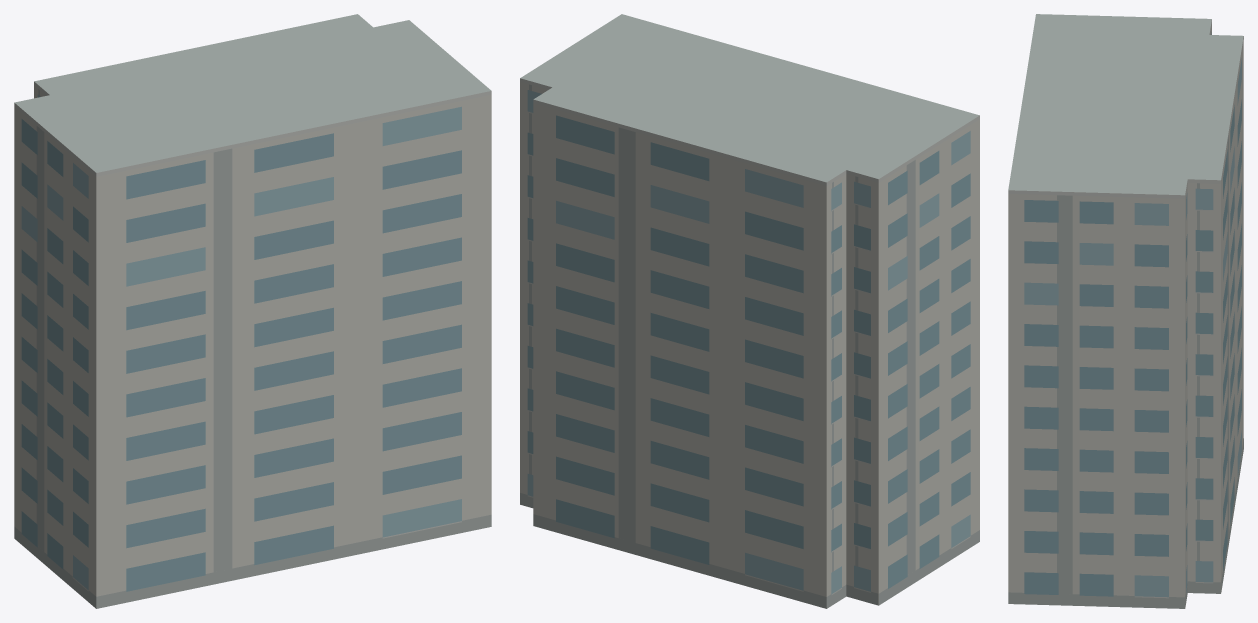
File: residential-288d3c45-8985-41ac-9046-c330a21ca2da.glb
3 views of the same model, side by side, from view 1: azimuth 30°, elevation 25°; view 2: azimuth 150°, elevation 25°; view 3: azimuth 270°, elevation 25° (orthographic). The views are drawn at different scales.
Parts seen in each view (by area): view 1: residential-288d3c45-8985-41ac-9046-c330a21ca2da.tmp; view 2: residential-288d3c45-8985-41ac-9046-c330a21ca2da.tmp; view 3: residential-288d3c45-8985-41ac-9046-c330a21ca2da.tmp.
Boxes of the visible parts, <box> form: residential-288d3c45-8985-41ac-9046-c330a21ca2da.tmp: <box>14,14,491,608</box>; residential-288d3c45-8985-41ac-9046-c330a21ca2da.tmp: <box>520,14,979,608</box>; residential-288d3c45-8985-41ac-9046-c330a21ca2da.tmp: <box>1008,14,1243,608</box>.
Bounding box in the file's own units: 26.32 × 28 × 14.46.
